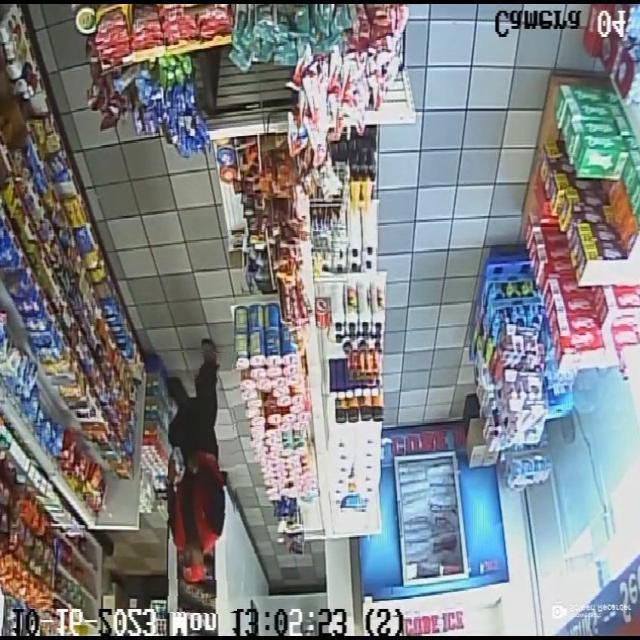Normal: (168, 351, 237, 613)
